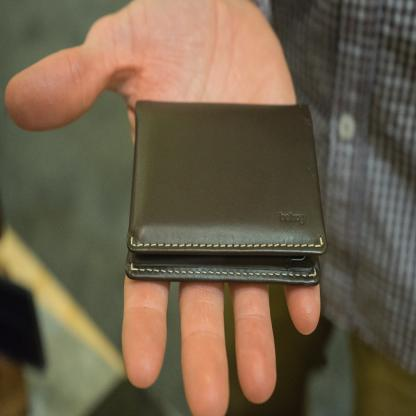monedero: (123, 99, 329, 288)
